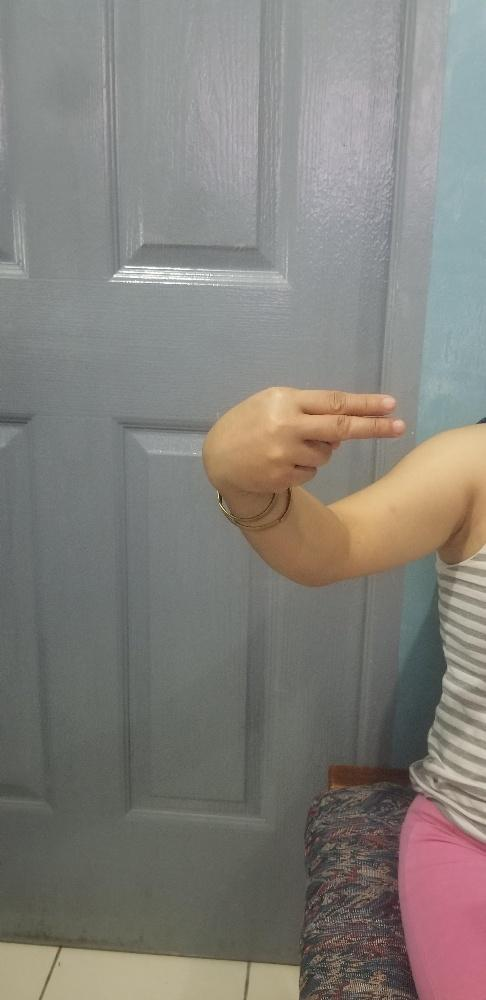h: (196, 382, 407, 494)
